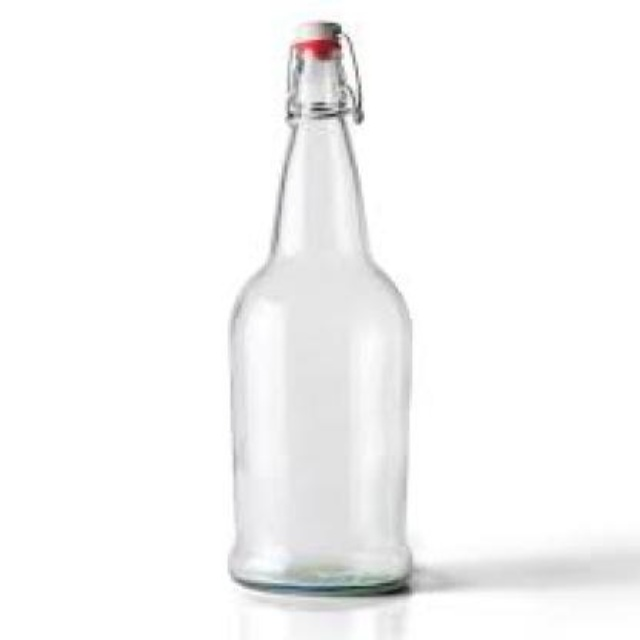trash: (229, 22, 411, 592)
